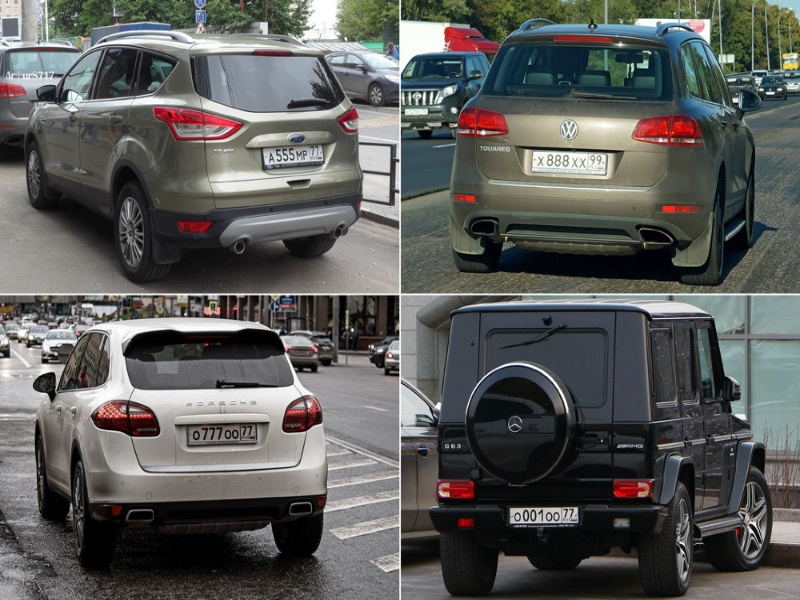car: (428, 301, 773, 595), (23, 30, 363, 284), (447, 18, 756, 285), (32, 317, 327, 571), (2, 41, 83, 156), (400, 51, 491, 139), (324, 51, 400, 106), (279, 334, 318, 375), (290, 331, 335, 364), (42, 328, 76, 365), (369, 335, 397, 365), (758, 76, 787, 99), (27, 325, 48, 347)
plate: (531, 150, 608, 175), (188, 425, 257, 446), (510, 506, 578, 527), (263, 144, 324, 166)
